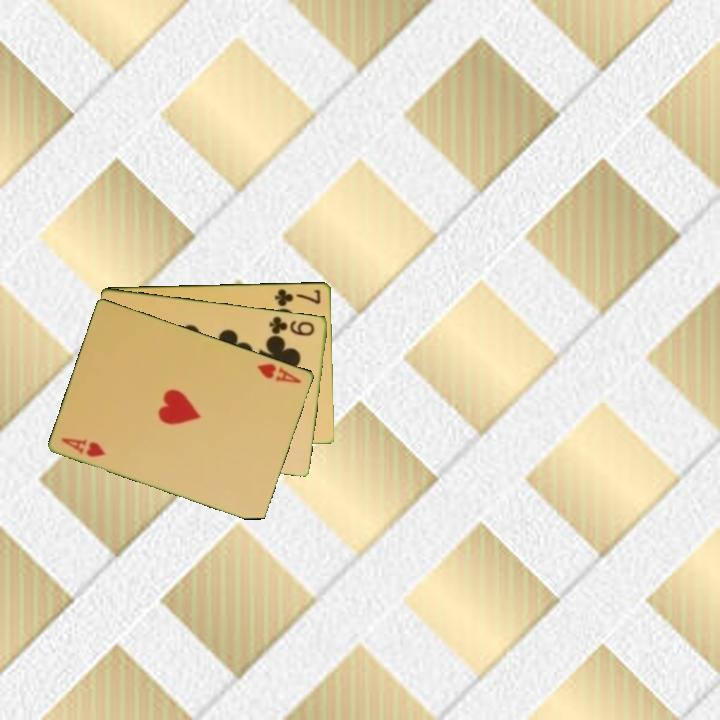7c: (271, 285, 324, 309)
9c: (266, 312, 317, 339)
Ah: (254, 359, 304, 386), (58, 434, 109, 460)
